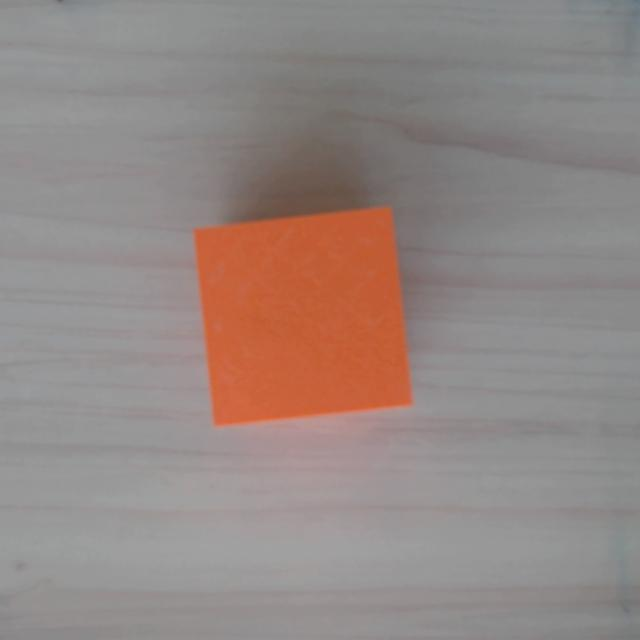Kubus-Jingga-505050: (192, 206, 413, 427)
